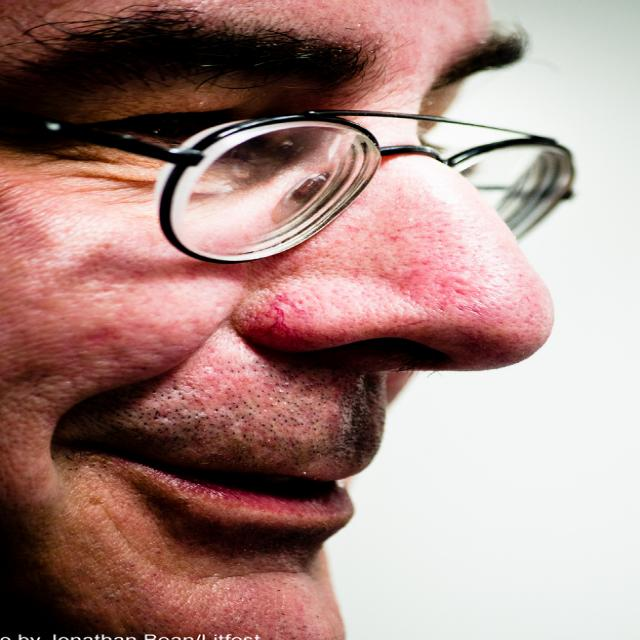Glasses: (48, 85, 551, 216)
